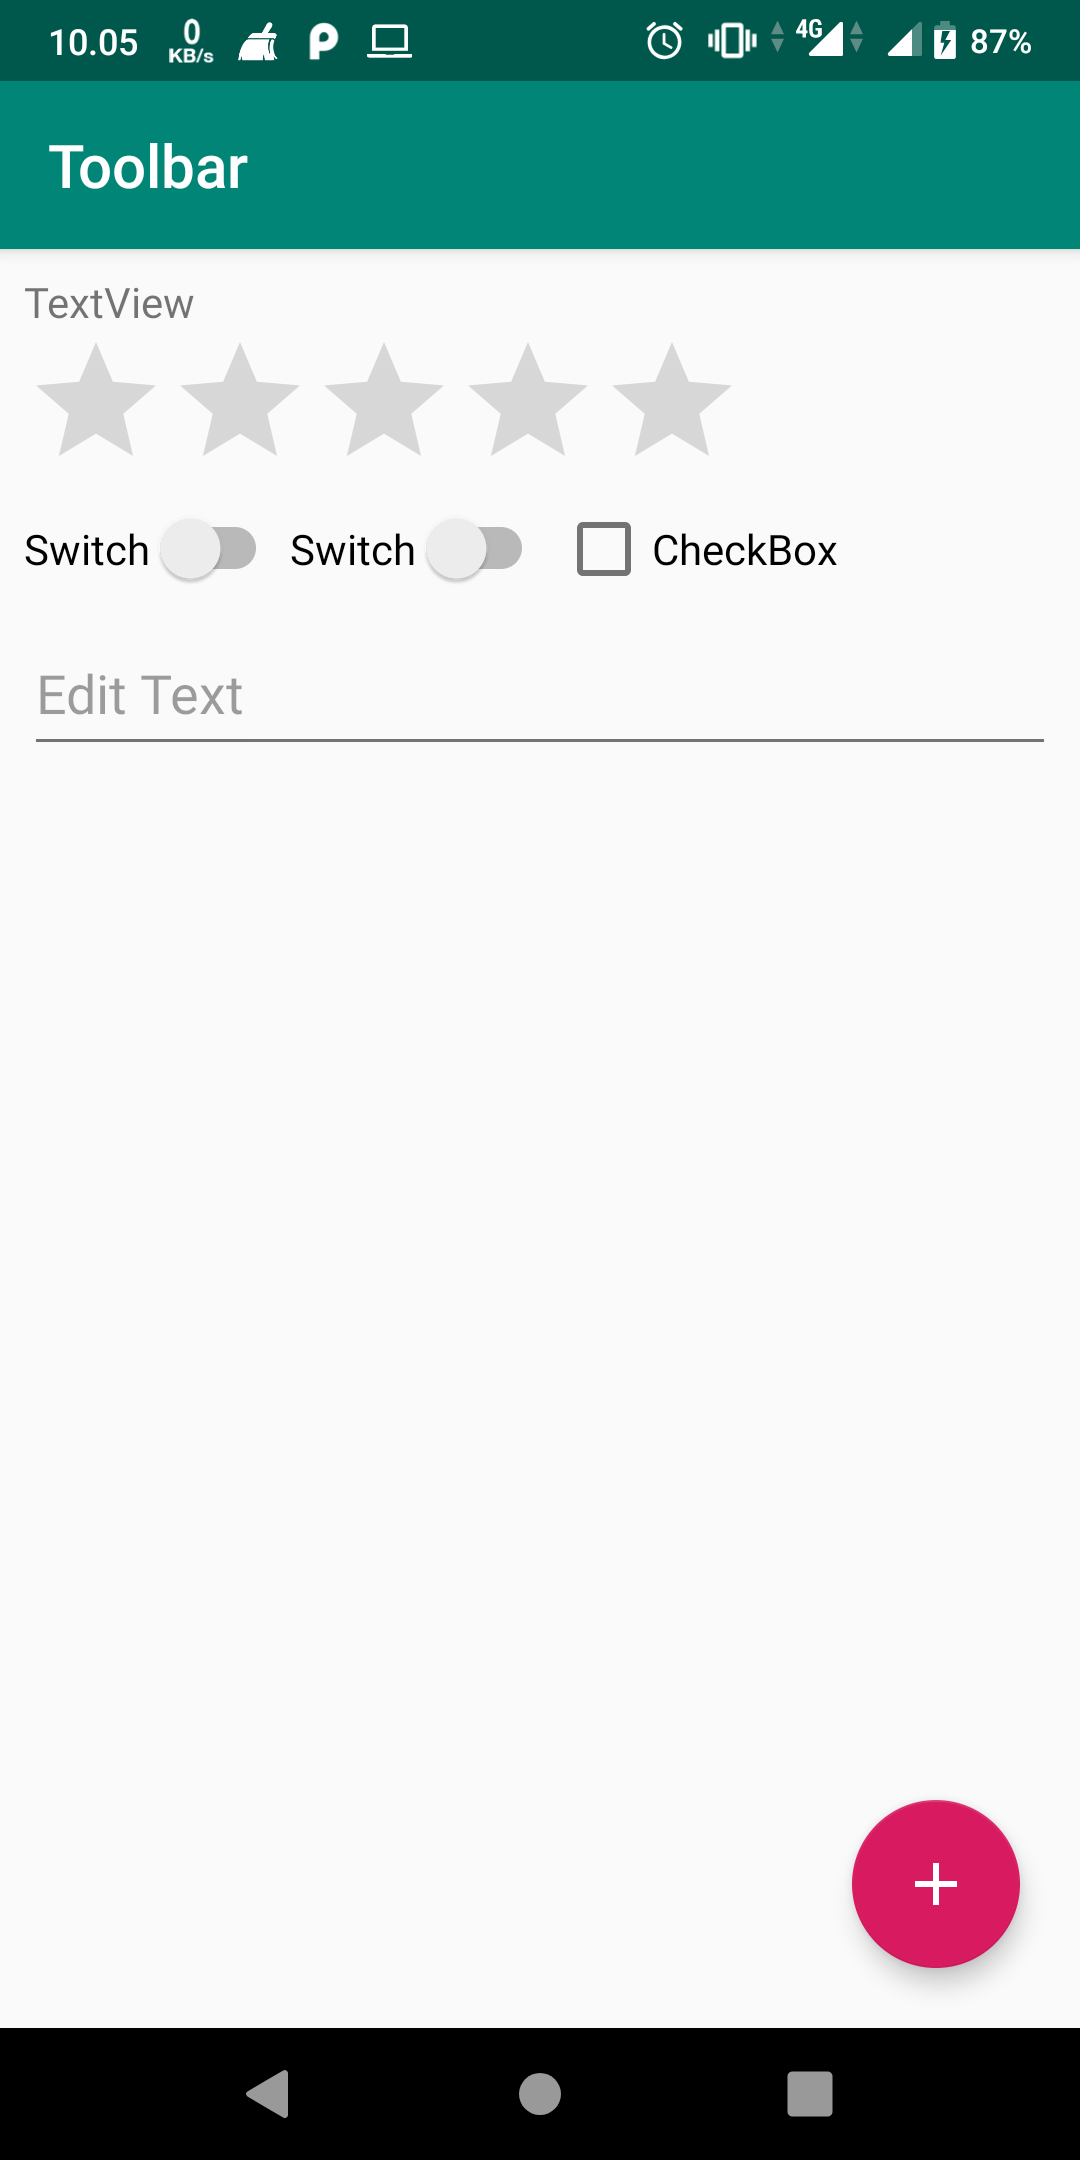checkBox: (573, 519, 844, 580)
editText: (22, 661, 1057, 758)
floatingButton: (842, 1796, 1019, 1970)
ratingBar: (22, 344, 765, 457)
switch: (277, 519, 528, 583), (15, 519, 264, 583)
textView: (25, 270, 207, 342)
toolbar: (3, 80, 1080, 248)
